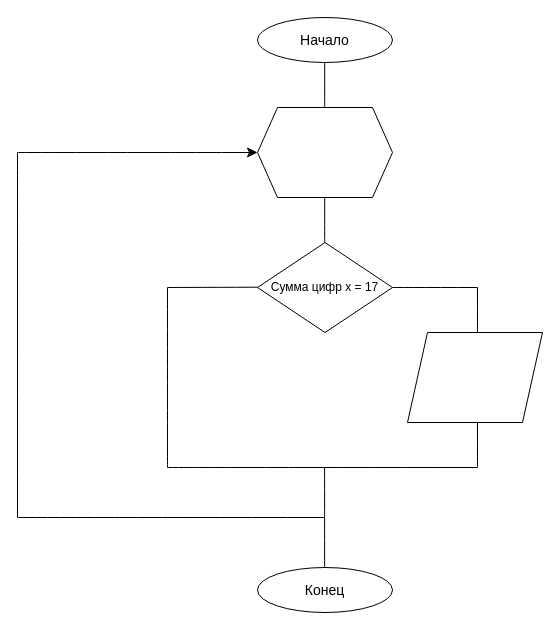
Some shapes in this 560 by 630 pixel diagram are drawn without their labels. The shapes that lost their labels are listed below. From the top down, each one's centre as x and y in pixels, then its label:
At [324,152]: "x = 10; x < 100; x++".
At [474,377]: "Вывод x".
